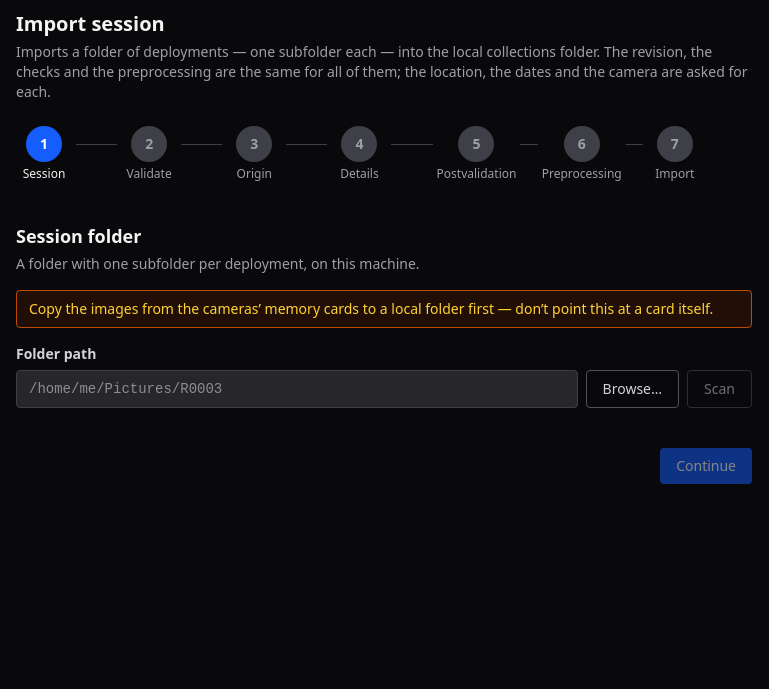
Test: ImportSessionPage › cannot go on with no subfolder ticked
The image size is (769, 689).
Click the button "Browse…": (632, 389) [586,370,679,408]
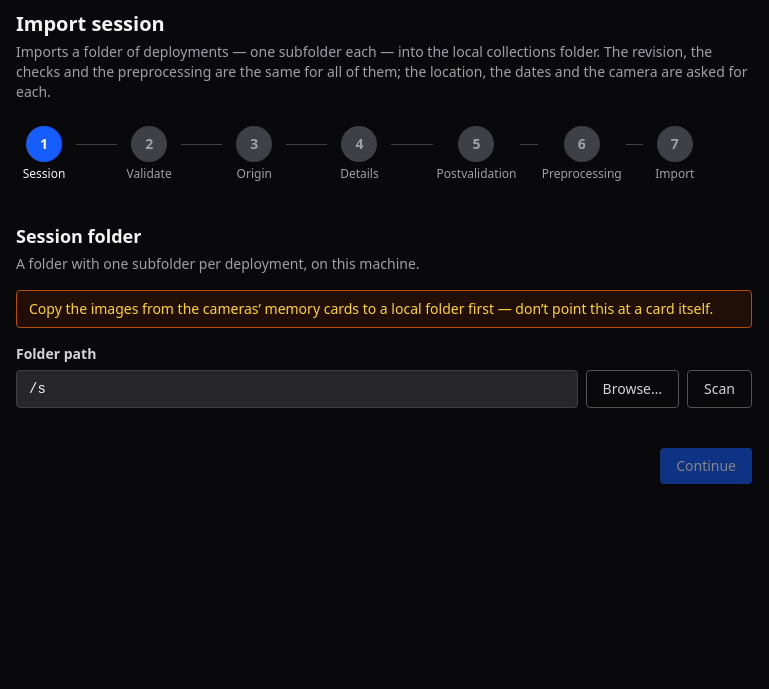
Expected: the field showing "/s" is shown, [16,370,578,408]
Click the button "Scan": (720, 389) [687,370,752,408]
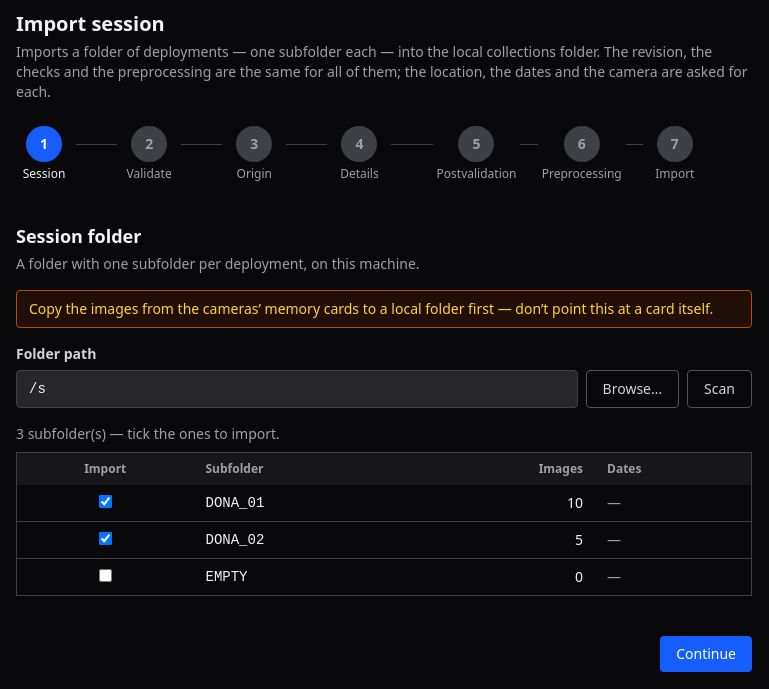
Expected: the checkbox named "DONA_01" is shown
Click the checkbox named "DONA_01": (105, 502) [99,495,112,508]
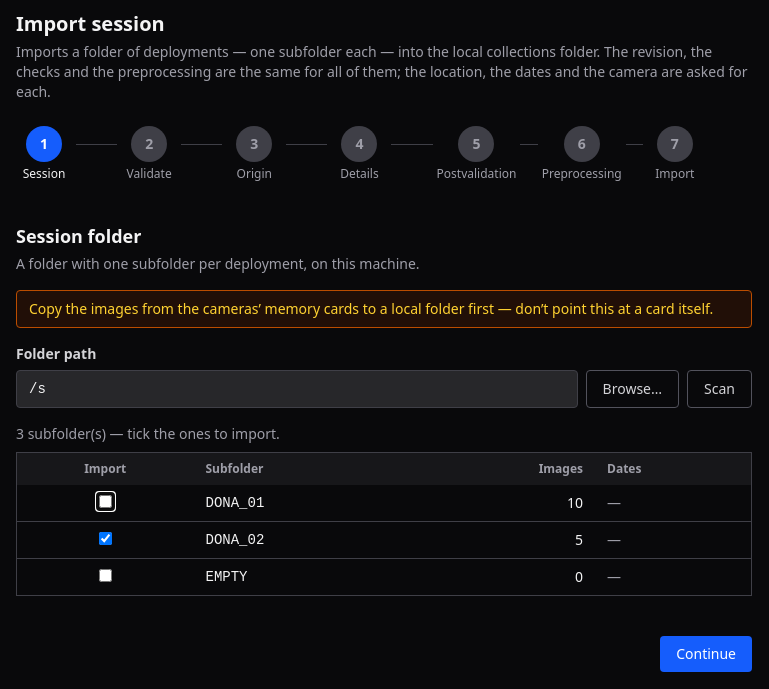
Click the checkbox named "DONA_02": (105, 538) [99,532,112,545]
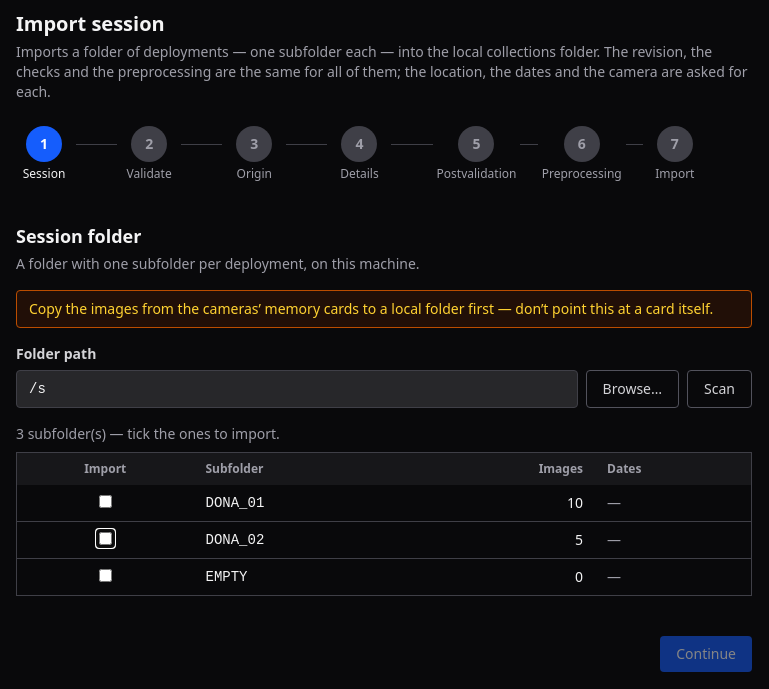
Expected: the button "Continue" is disabled, [660,636,752,672]
